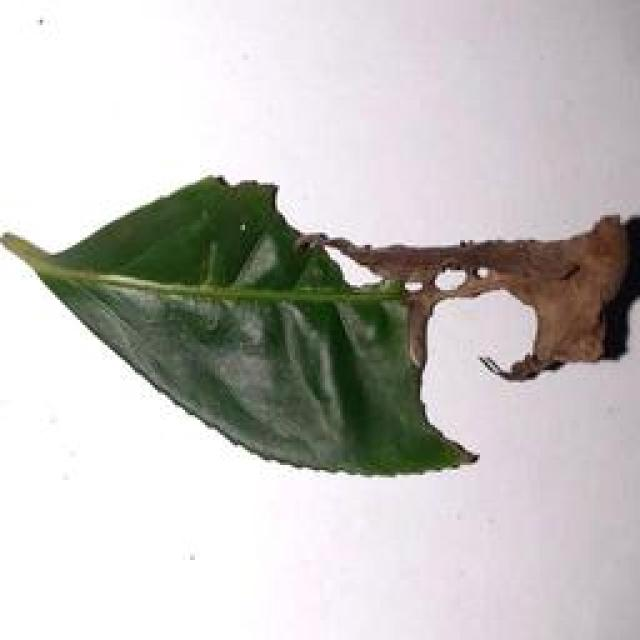Brown Blight: (0, 158, 640, 516)
